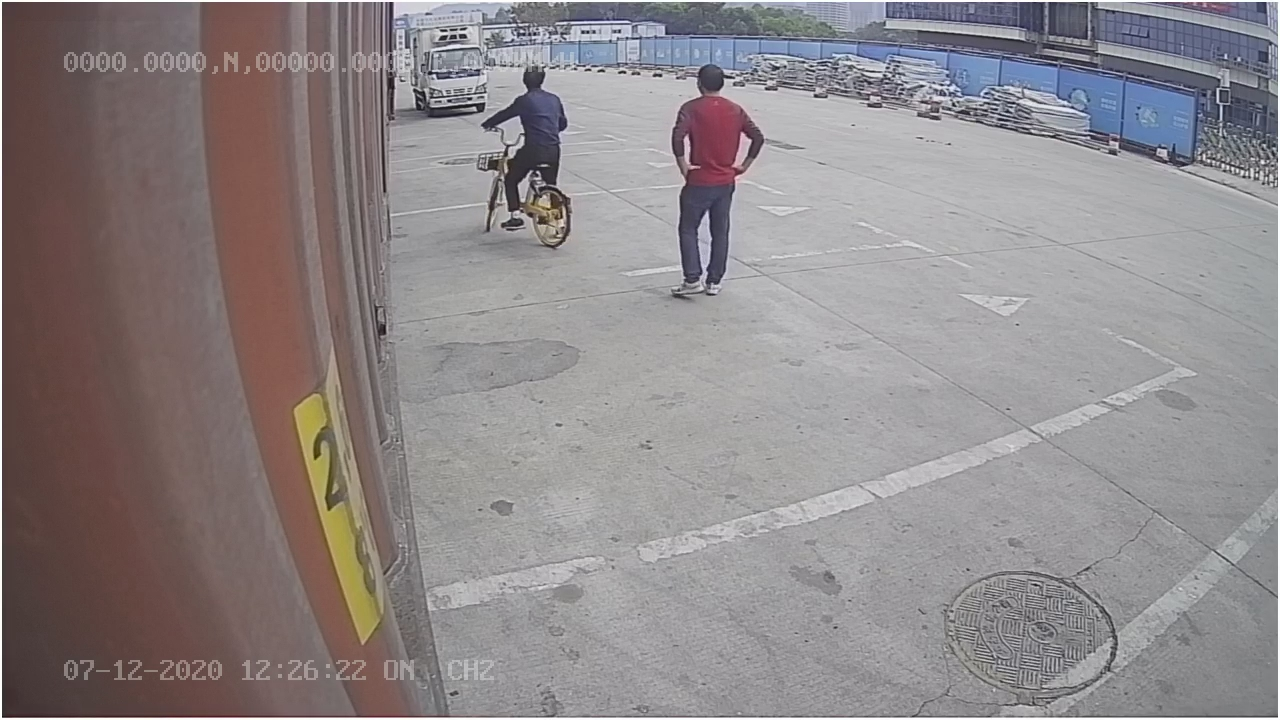person: (666, 62, 768, 299)
